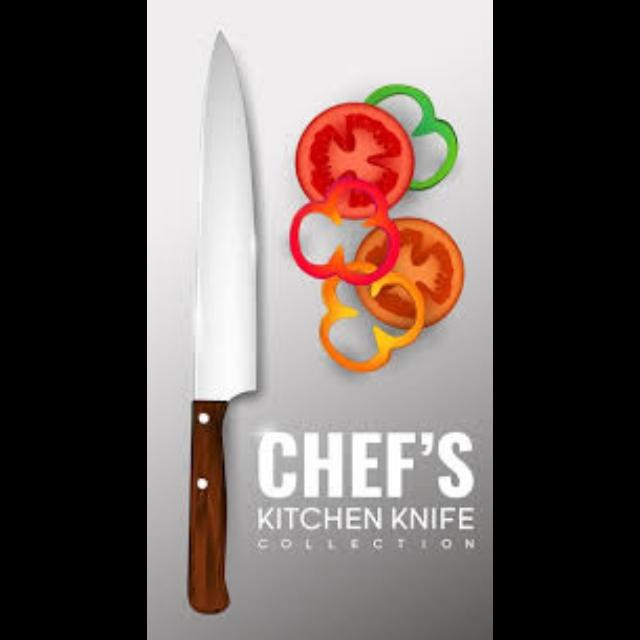knife: (188, 28, 258, 612)
